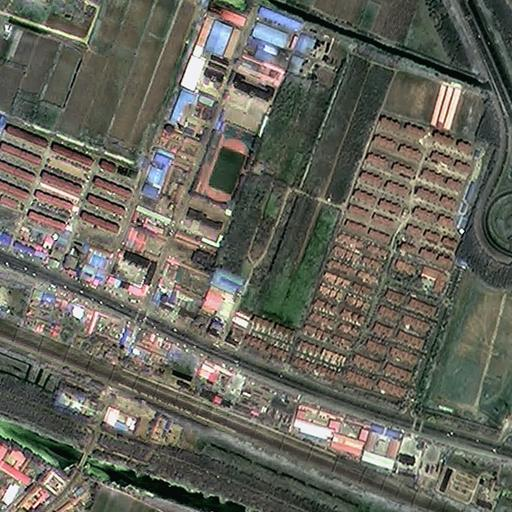school: (192, 69, 280, 206)
